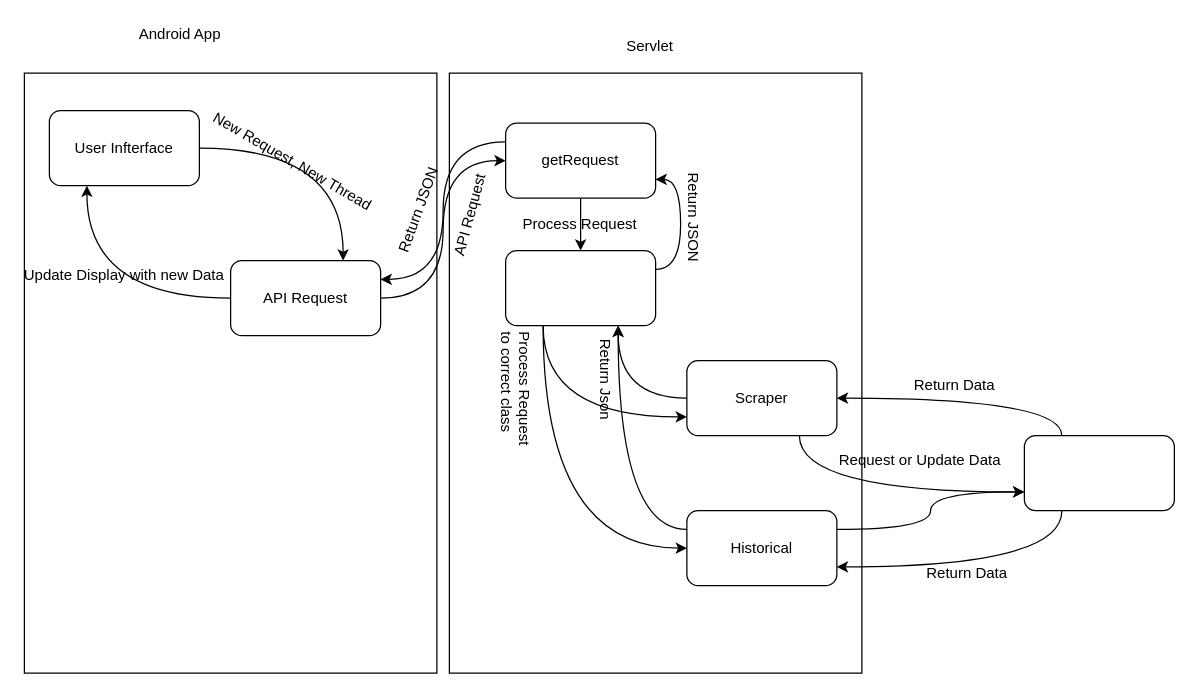
Image size: 1196x695. Some labels were removed from this diagram. Each missing label, with the centre of its shape:
"Application Controller" belongs at (x=580, y=287).
"MySQL" belongs at (x=1098, y=472).
